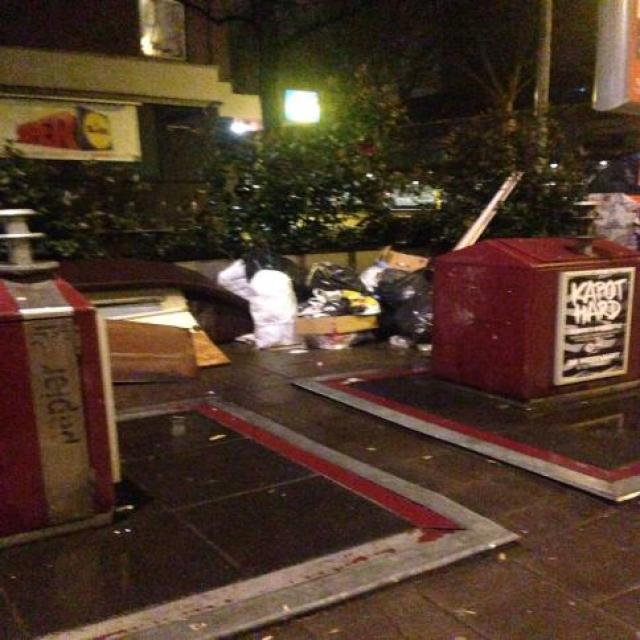Anorganik: (217, 242, 326, 358), (357, 257, 449, 347)
